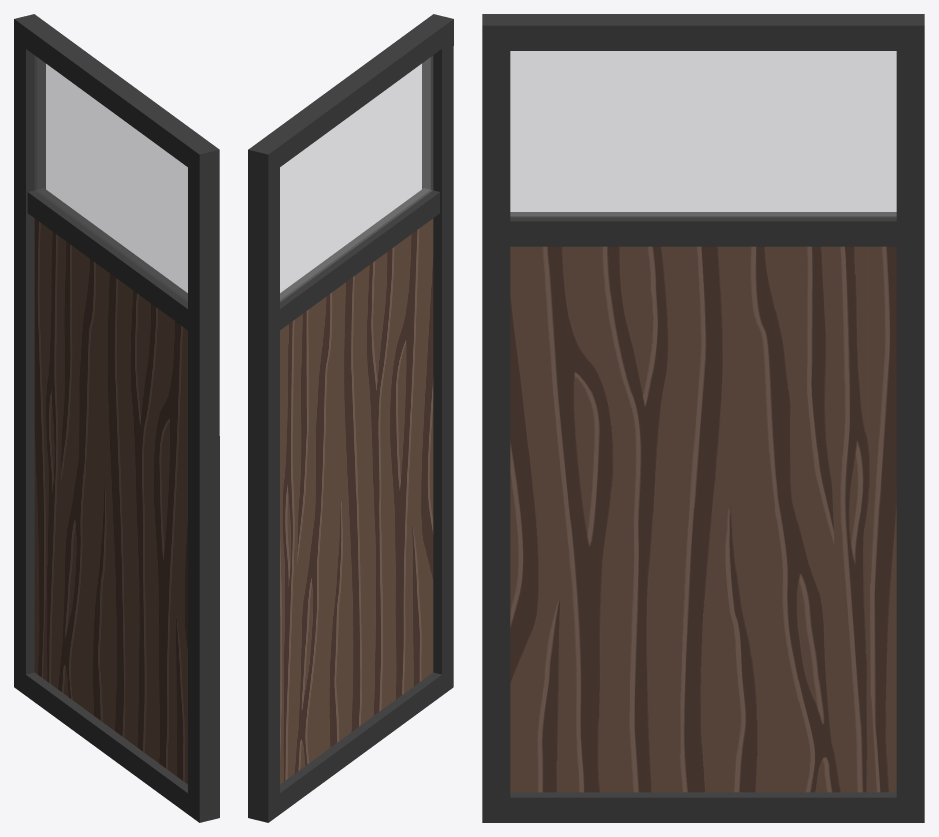
Rendered from Seperator20.fbx.
The picture shows the model from 3 angles, left to right: view 1: azimuth 30°, elevation 25°; view 2: azimuth 150°, elevation 25°; view 3: azimuth 270°, elevation 25°; orthographic projection. The views are drawn at different scales.
Parts seen in each view (by area): view 1: Seperator20; view 2: Seperator20; view 3: Seperator20.
Boxes of the visible parts, x1,y1,x2,y2 form: Seperator20: (14,14,219,822); Seperator20: (248,14,453,822); Seperator20: (482,14,924,822).
Size of the model in its own units: 0.0501 by 0.7923 by 1.58.
